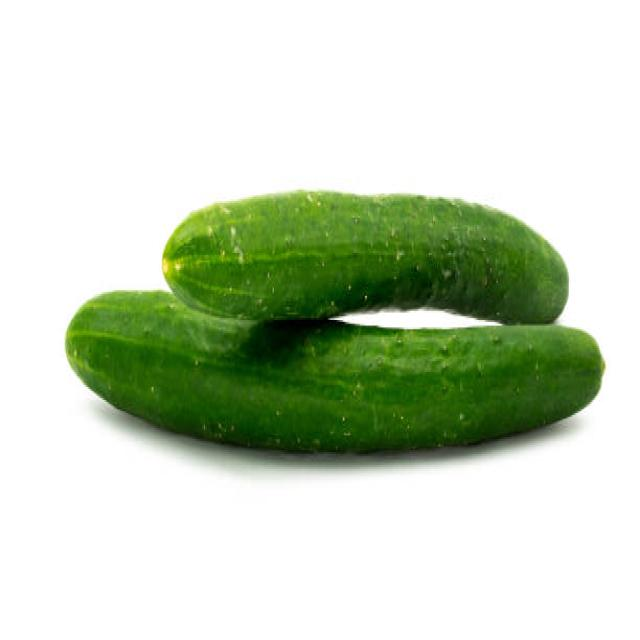cucumber: (66, 289, 604, 454), (163, 193, 569, 326)
